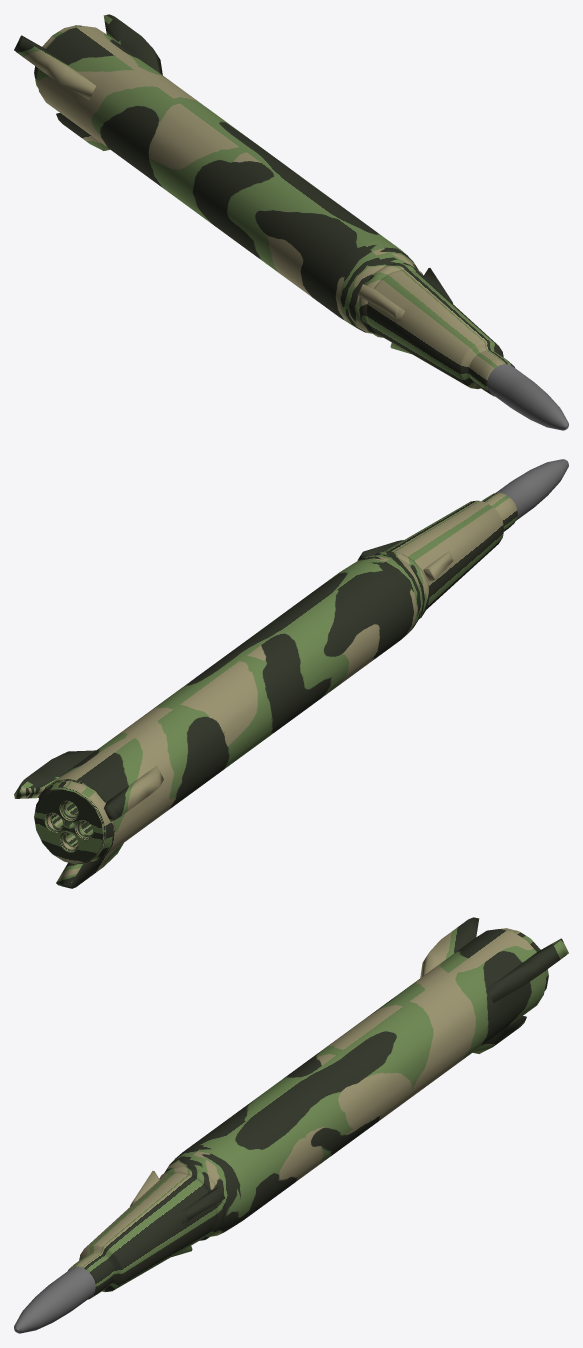
3 views of the same model, one above another, from view 1: azimuth 30°, elevation 25°; view 2: azimuth 150°, elevation 25°; view 3: azimuth 330°, elevation 25° (orthographic).
Parts seen in each view (by area): view 1: DD-Mat, DD-Mat.1; view 2: DD-Mat, DD-Mat.1; view 3: DD-Mat, DD-Mat.1.
Part boxes in pixels (bbox=[...]): DD-Mat: bbox=[14, 14, 514, 396]; DD-Mat.1: bbox=[487, 364, 568, 430]; DD-Mat: bbox=[14, 492, 517, 888]; DD-Mat.1: bbox=[496, 459, 568, 520]; DD-Mat: bbox=[68, 917, 568, 1299]; DD-Mat.1: bbox=[14, 1267, 95, 1333].
Bounding box in the file's own units: 8.89 × 8.11 × 74.19.
Materials: 2 (1 with a texture image).
